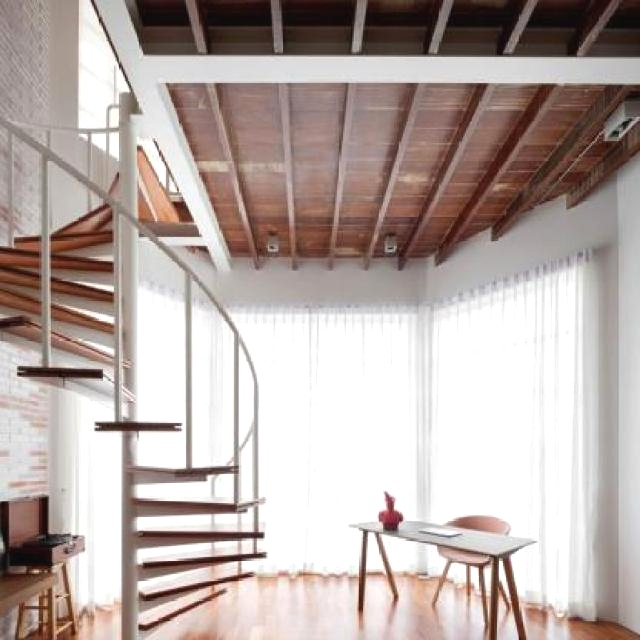stair: (1, 166, 277, 623)
